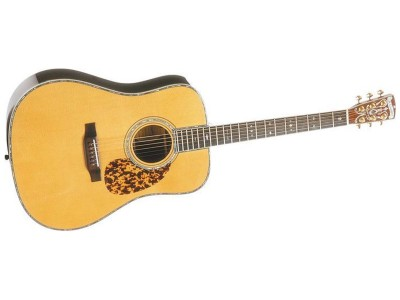guitar: (6, 69, 398, 231)
